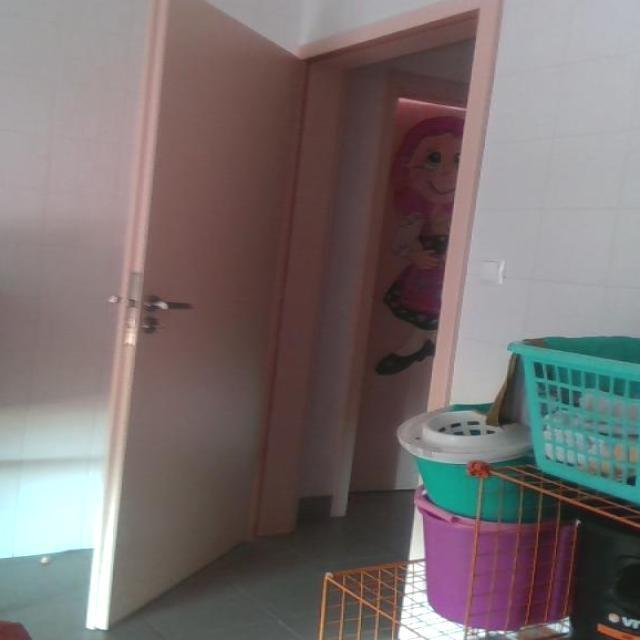door: (84, 1, 309, 629)
